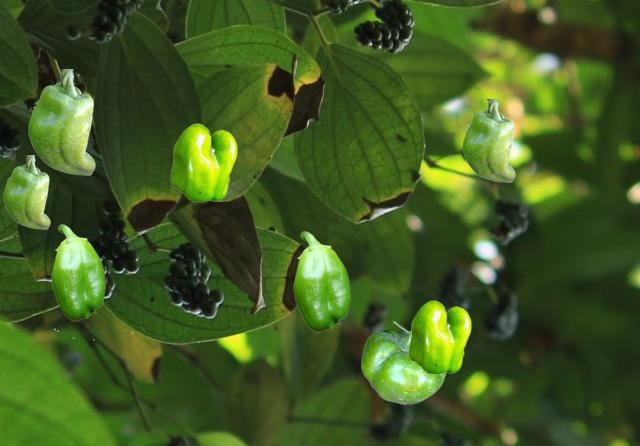bell_pepper: (361, 321, 446, 403), (28, 69, 94, 174), (293, 231, 349, 331), (170, 123, 236, 201), (51, 224, 104, 320), (408, 300, 470, 373), (462, 99, 514, 181), (3, 155, 49, 228)
